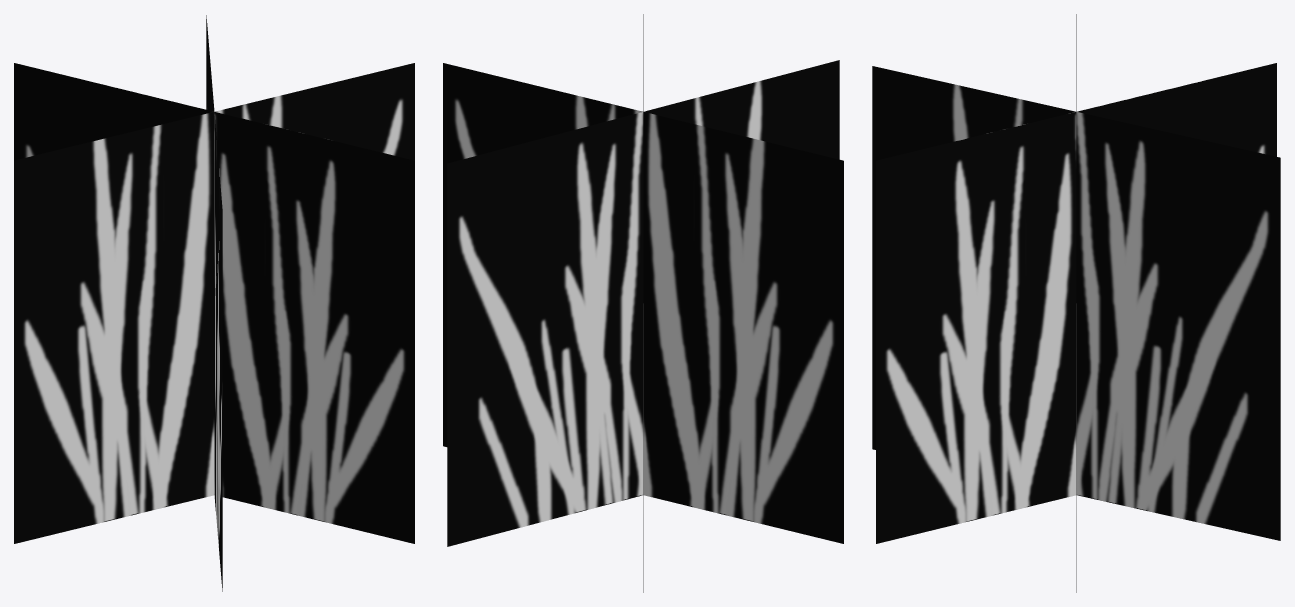
The model's file is Grass Swamp Tall.fbx.
3 renders of one model, left to right at view 1: azimuth 30°, elevation 25°; view 2: azimuth 150°, elevation 25°; view 3: azimuth 270°, elevation 25°, orthographic.
Parts seen in each view (by area): view 1: Grassbkup; view 2: Grassbkup; view 3: Grassbkup.
Part boxes in pixels (left/top/right/bottom): Grassbkup: left=14, top=15, right=414, bottom=591; Grassbkup: left=443, top=14, right=843, bottom=592; Grassbkup: left=872, top=14, right=1280, bottom=592.
Bounding box in the file's own units: 0.3863 × 0.4 × 0.4375.
